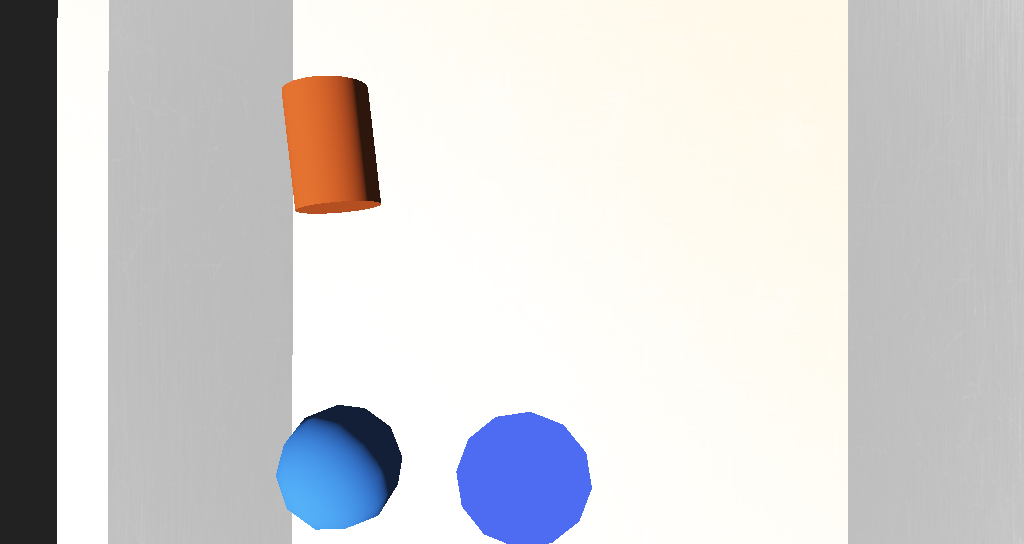cone: (347, 198, 408, 251)
cylinder: (445, 313, 512, 365)
sphere: (350, 315, 418, 363)
